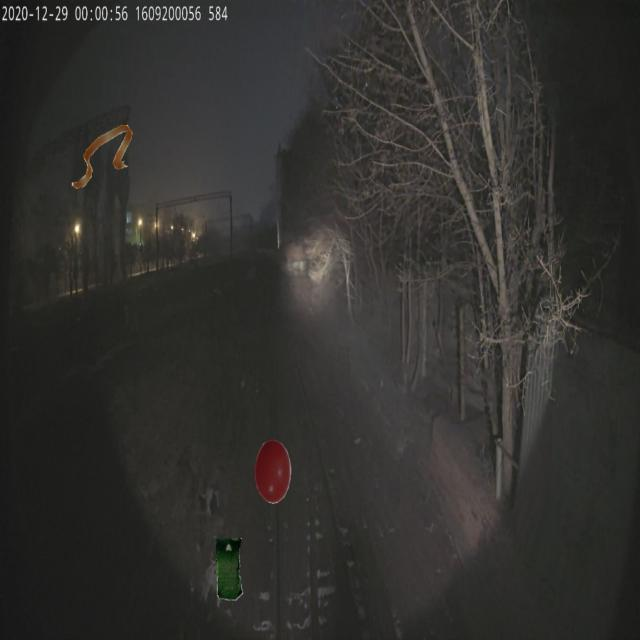balloon: (254, 439, 291, 504)
floating object: (72, 124, 133, 188)
plastic bag: (216, 536, 243, 600)
